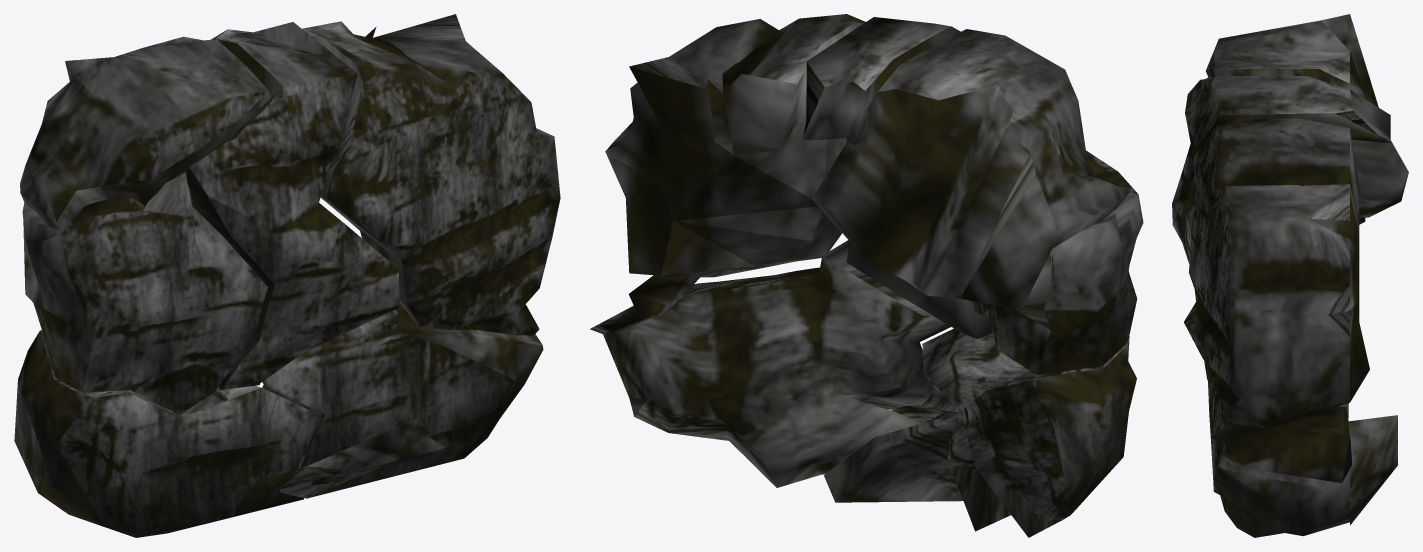
File: SquareBroken.fbx
The picture shows the model from 3 angles, left to right: view 1: azimuth 30°, elevation 25°; view 2: azimuth 150°, elevation 25°; view 3: azimuth 270°, elevation 25°; orthographic projection. The views are drawn at different scales.
Visible parts, largest first — view 1: SquareLP.005, SquareLP.001, SquareLP.003, SquareLP.002, SquareLP.004, SquareLP.006; view 2: SquareLP.006, SquareLP.004, SquareLP.005, SquareLP.002, SquareLP.003, SquareLP.001; view 3: SquareLP.005, SquareLP.004, SquareLP.006, SquareLP.001.
Boxes of the visible parts, x1,y1,x2,y2 form: SquareLP.005: (302, 14, 560, 335); SquareLP.001: (186, 22, 399, 389); SquareLP.003: (22, 172, 267, 414); SquareLP.002: (14, 330, 343, 537); SquareLP.004: (262, 302, 543, 498); SquareLP.006: (20, 36, 270, 232); SquareLP.006: (812, 29, 1130, 309); SquareLP.004: (602, 240, 950, 487); SquareLP.005: (590, 14, 865, 333); SquareLP.002: (824, 329, 1136, 537); SquareLP.003: (971, 150, 1143, 374); SquareLP.001: (803, 17, 992, 338); SquareLP.005: (1184, 118, 1369, 483); SquareLP.004: (1208, 382, 1397, 537); SquareLP.006: (1206, 14, 1408, 217); SquareLP.001: (1172, 76, 1390, 301).
Bounding box in the file's own units: 2.36 × 1.1 × 2.
